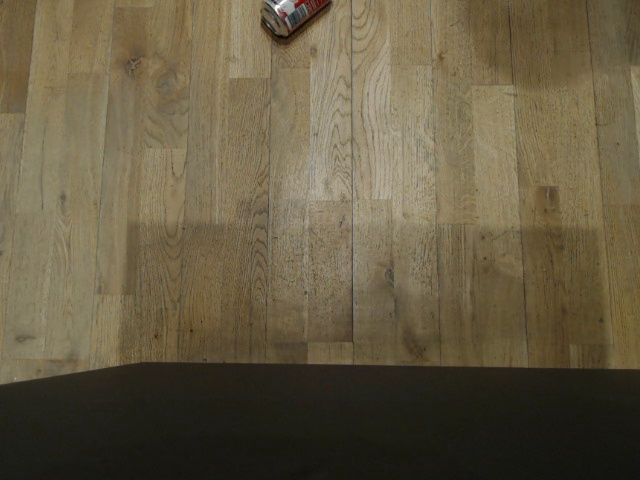cola: (256, 0, 331, 37)
